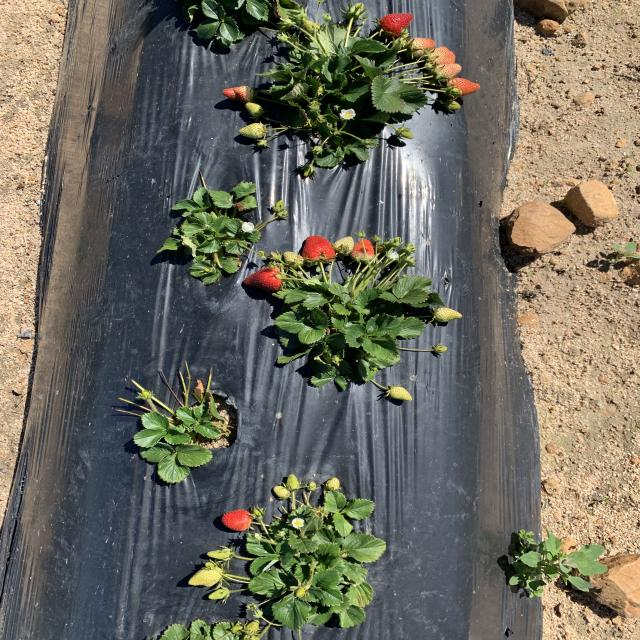unripe: (298, 235, 334, 265), (241, 266, 282, 292), (379, 12, 414, 34), (221, 508, 253, 530), (355, 239, 376, 261)
